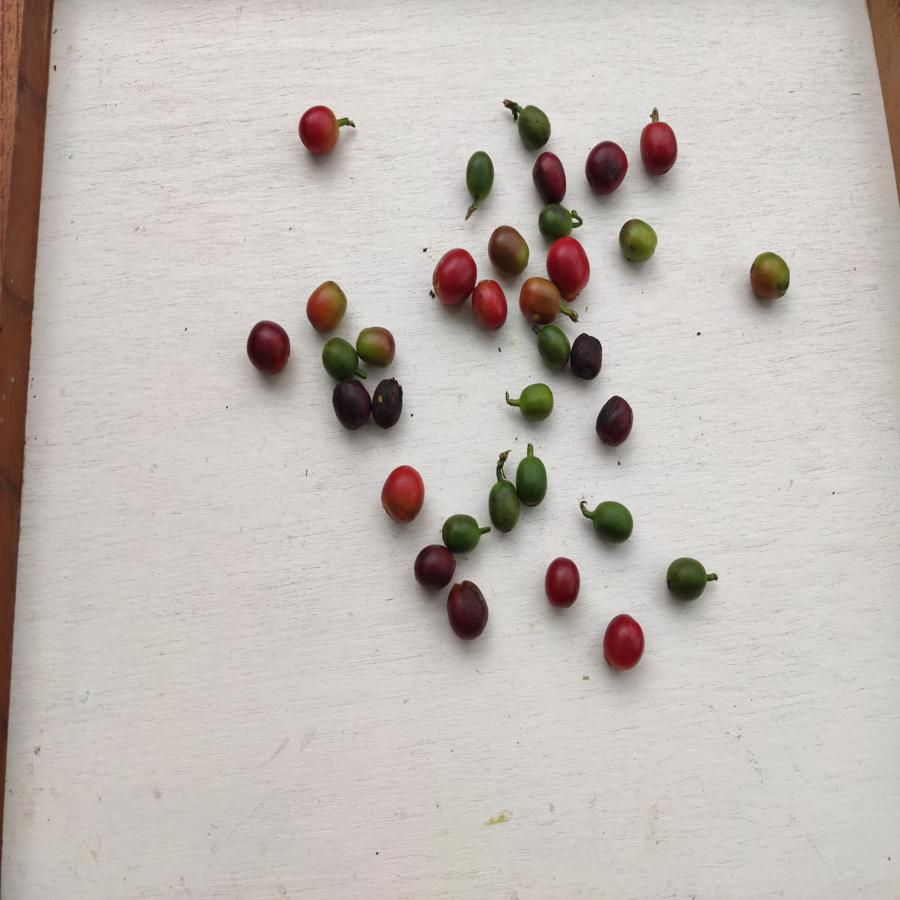Inmaduro: (618, 219, 661, 269), (484, 477, 520, 533), (591, 501, 635, 545), (665, 557, 708, 602), (515, 456, 550, 508), (515, 101, 553, 148), (513, 381, 555, 423), (442, 511, 483, 551), (535, 325, 569, 372), (321, 336, 357, 379), (466, 148, 495, 199), (536, 203, 575, 238)
Maduro: (429, 246, 478, 308), (380, 465, 425, 523), (548, 238, 591, 298), (468, 277, 513, 333), (604, 613, 646, 671), (297, 104, 342, 158), (640, 119, 680, 176), (543, 554, 582, 611)
Pinton: (748, 252, 794, 304), (305, 281, 348, 334), (487, 226, 531, 273), (518, 277, 560, 323), (355, 324, 396, 367)
Sobremaduro: (446, 580, 488, 643), (244, 318, 291, 374), (586, 139, 628, 194), (331, 378, 371, 434), (368, 376, 408, 429), (593, 395, 633, 445), (532, 151, 570, 203), (413, 545, 458, 586), (569, 331, 603, 380)
